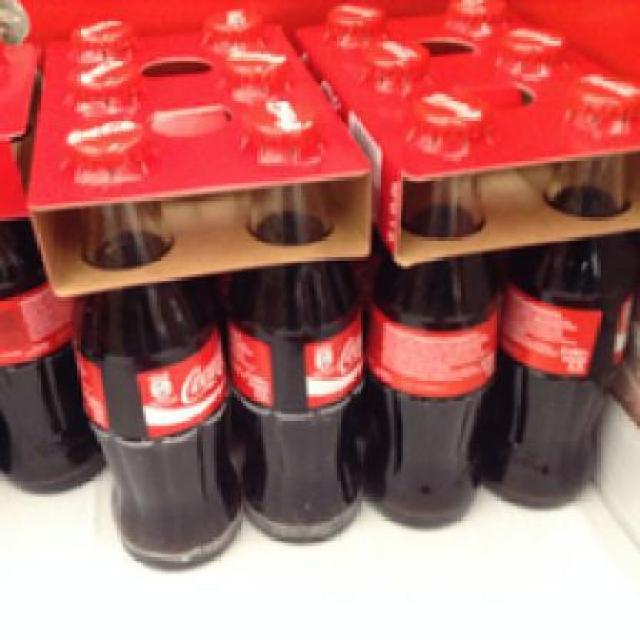Coke: (63, 117, 237, 569), (223, 107, 366, 544), (360, 89, 500, 526), (497, 74, 632, 506)
